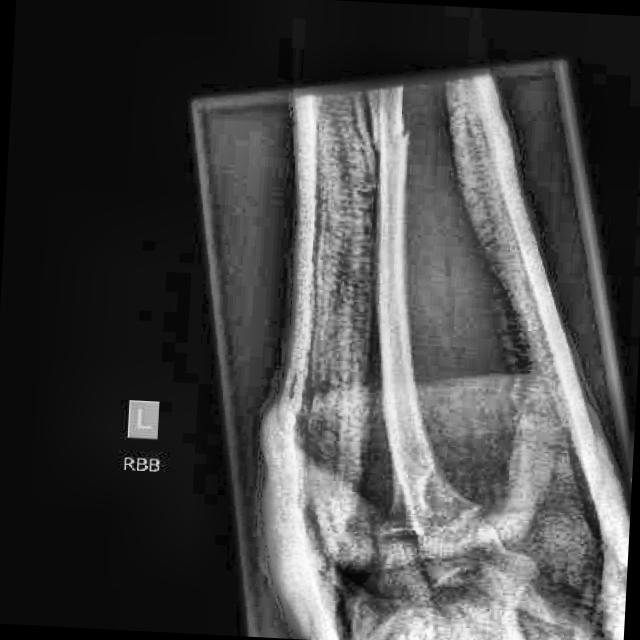forearm fracture: (347, 110, 432, 175)
